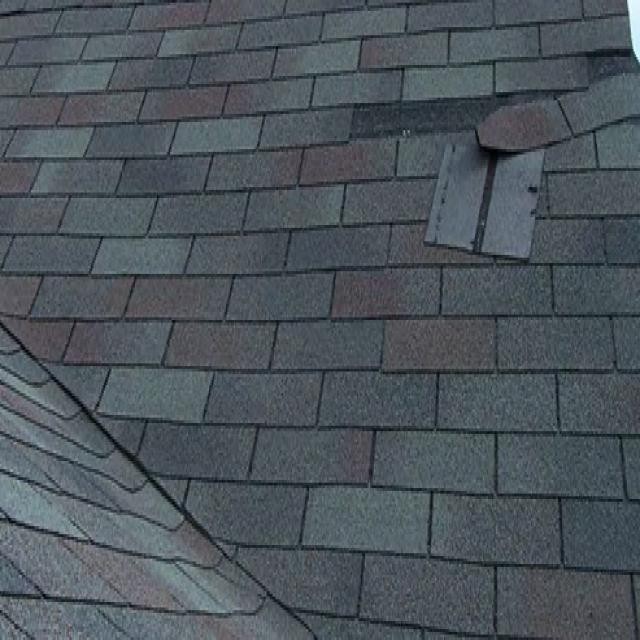damage: (348, 41, 640, 269)
